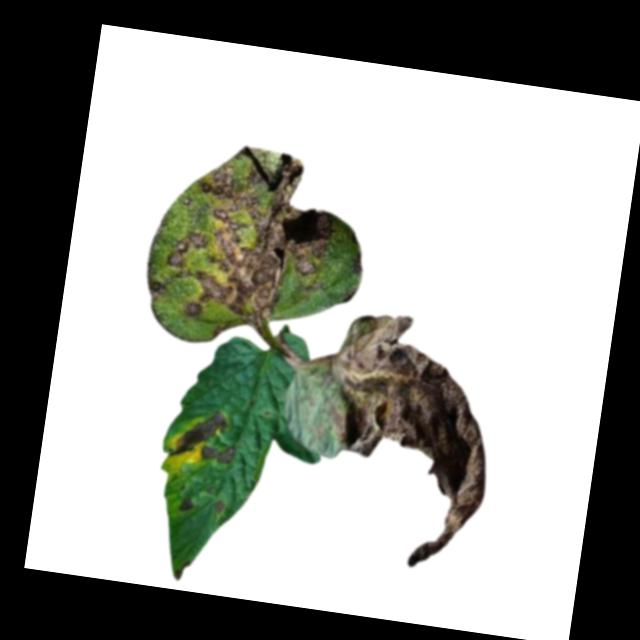Early_blight: (296, 305, 508, 578), (137, 131, 346, 340), (166, 405, 245, 471), (178, 497, 196, 515), (212, 499, 229, 517)
